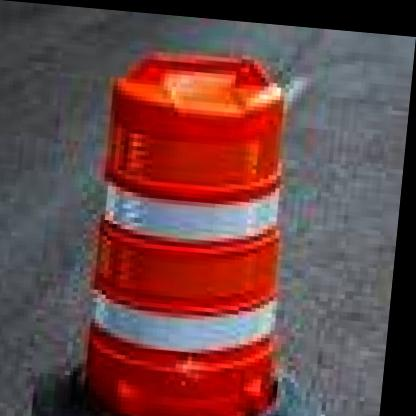obstacle: (80, 49, 333, 416)
